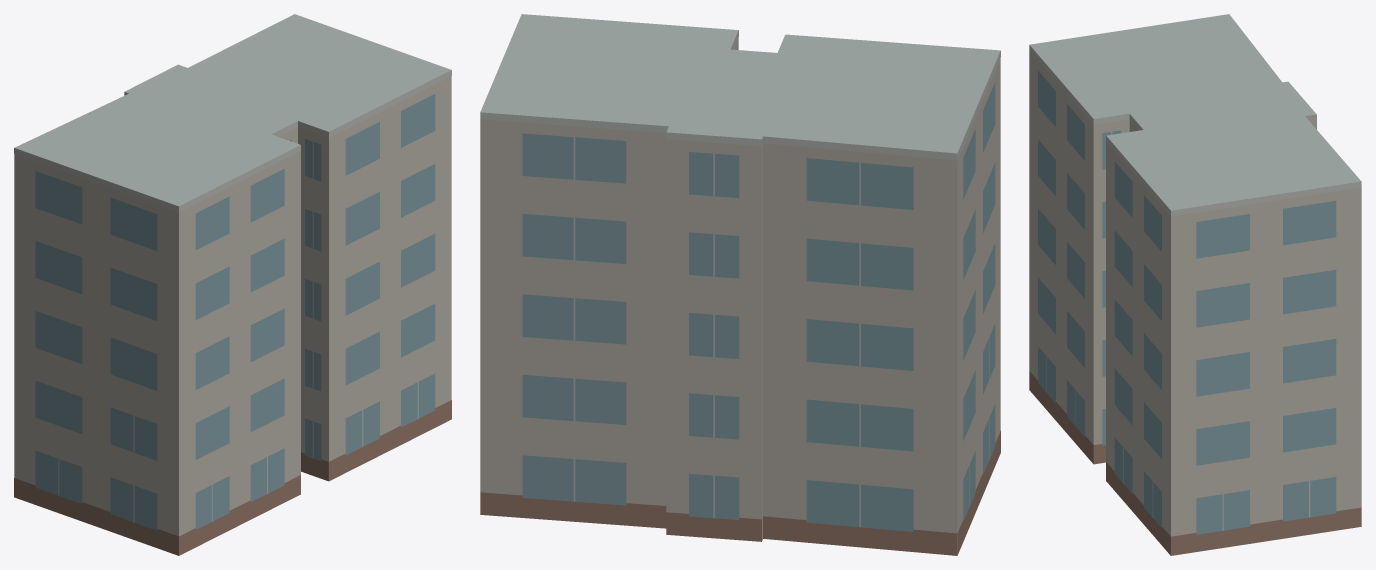
Rendered from survey-upis-32923470.glb.
3 renders of one model, left to right at view 1: azimuth 30°, elevation 25°; view 2: azimuth 150°, elevation 25°; view 3: azimuth 270°, elevation 25°, orthographic. The views are drawn at different scales.
Parts seen in each view (by area): view 1: survey-upis-32923470.tmp; view 2: survey-upis-32923470.tmp; view 3: survey-upis-32923470.tmp.
Part boxes in pixels (x1,y1,x2,y2): survey-upis-32923470.tmp: [14, 14, 451, 555]; survey-upis-32923470.tmp: [480, 14, 1000, 555]; survey-upis-32923470.tmp: [1029, 14, 1361, 555].
Size of the model in its own units: 17.48 by 14.3 by 12.49.
